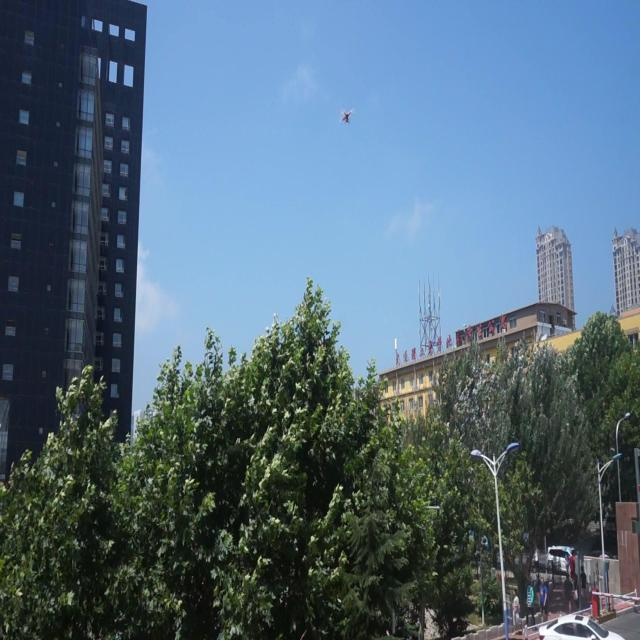drone: (338, 104, 354, 127)
